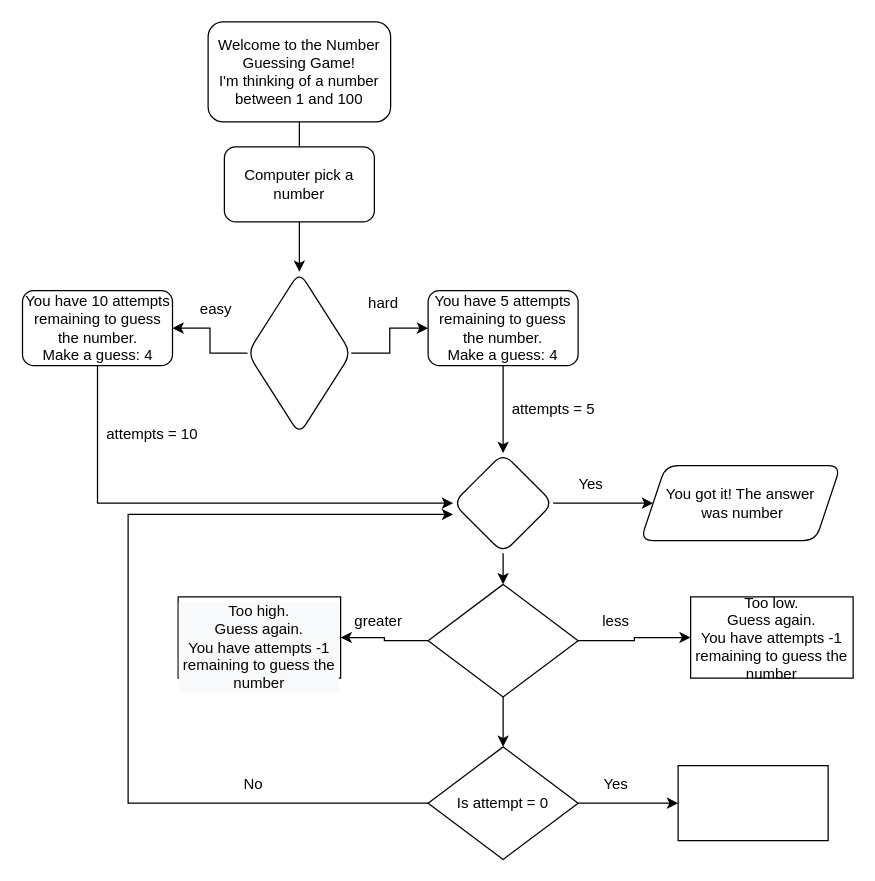
The diagram is 875 pixels wide and 881 high, and some of its shapes have lost their labels. Each missing label, with the centre of its shape:
"Choose a difficulty. Type 'easy' or 'hard': hard" belongs at point 298,352.
"Guess = Number" belongs at point 502,502.
"Is guess > or < number" belongs at point 502,640.
"You lose! The answer was number" belongs at point 752,802.
